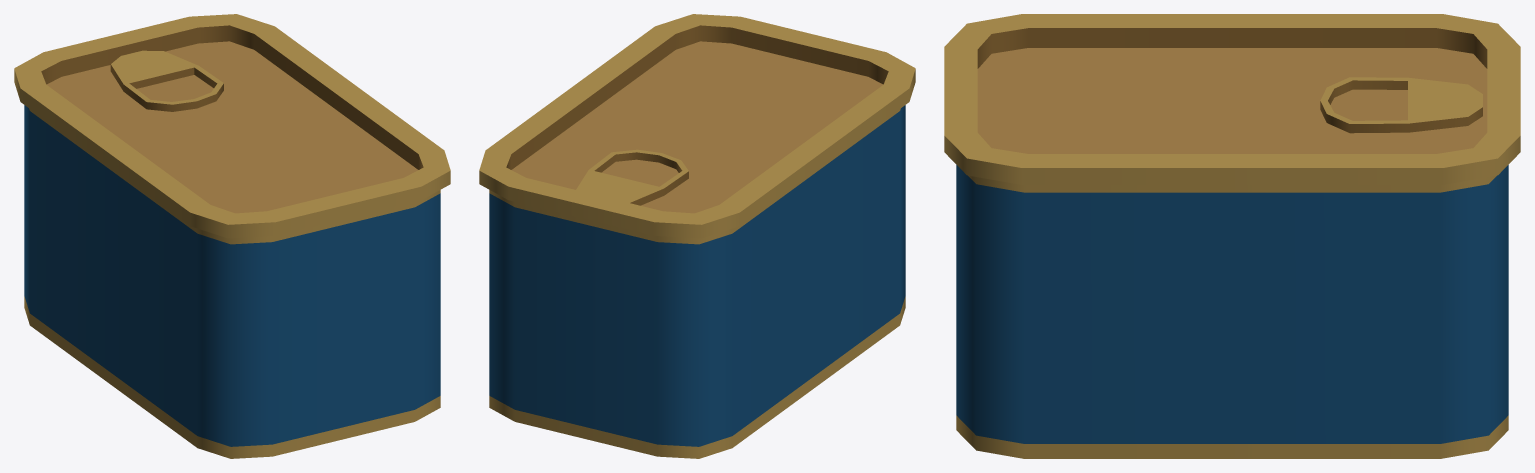
Rendered from consumables-cannedfood-cannedmeat_v1.glb.
3 views of the same model, side by side, from view 1: azimuth 30°, elevation 25°; view 2: azimuth 150°, elevation 25°; view 3: azimuth 270°, elevation 25° (orthographic). The views are drawn at different scales.
Parts seen in each view (by area): view 1: CannedMeat_color, CannedMeat_refl; view 2: CannedMeat_color, CannedMeat_refl; view 3: CannedMeat_color, CannedMeat_refl.
Boxes of the visible parts, x1=… form: CannedMeat_color: x1=24, y1=105, x2=440, y2=446; CannedMeat_refl: x1=14, y1=14, x2=450, y2=458; CannedMeat_color: x1=489, y1=105, x2=905, y2=446; CannedMeat_refl: x1=479, y1=14, x2=915, y2=458; CannedMeat_color: x1=956, y1=165, x2=1508, y2=443; CannedMeat_refl: x1=944, y1=14, x2=1520, y2=458.
Size of the model in its own units: 0.1397 by 0.1251 by 0.2209.
